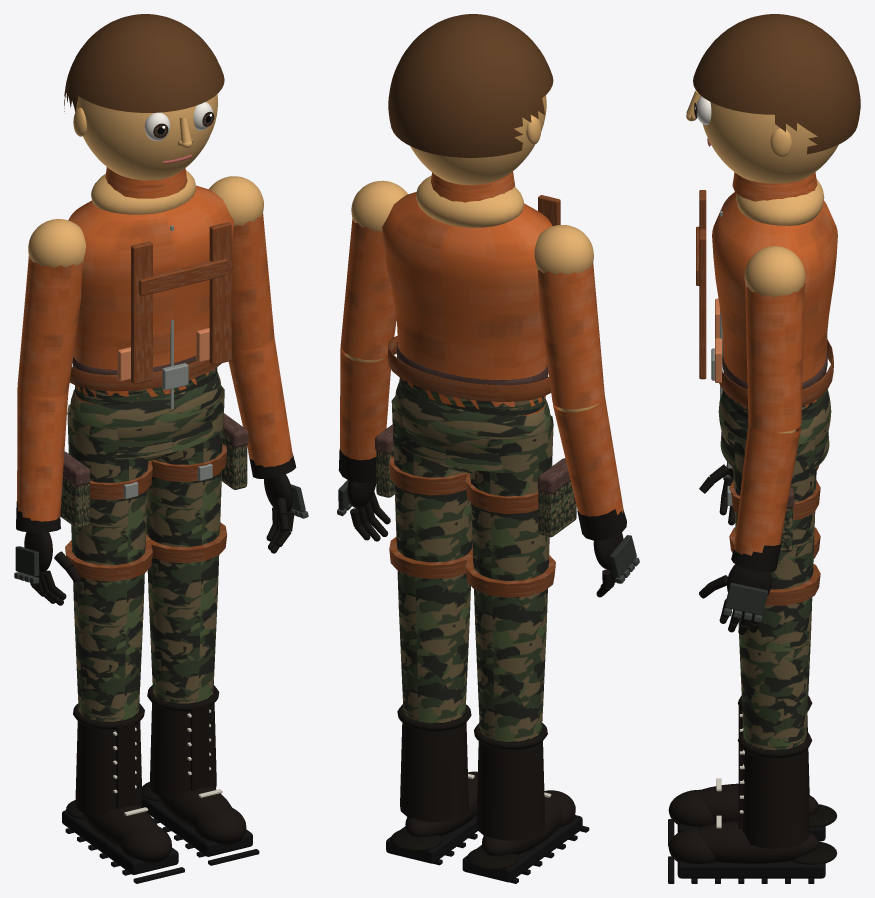
The model's file is 08-sangles-de-parachutiste.glb.
The picture shows the model from 3 angles, left to right: view 1: azimuth 30°, elevation 25°; view 2: azimuth 150°, elevation 25°; view 3: azimuth 270°, elevation 25°; orthographic projection. The views are drawn at different scales.
Size of the model in its own units: 0.6344 by 1.77 by 0.3715.
Materials: 27 (5 with a texture image).
